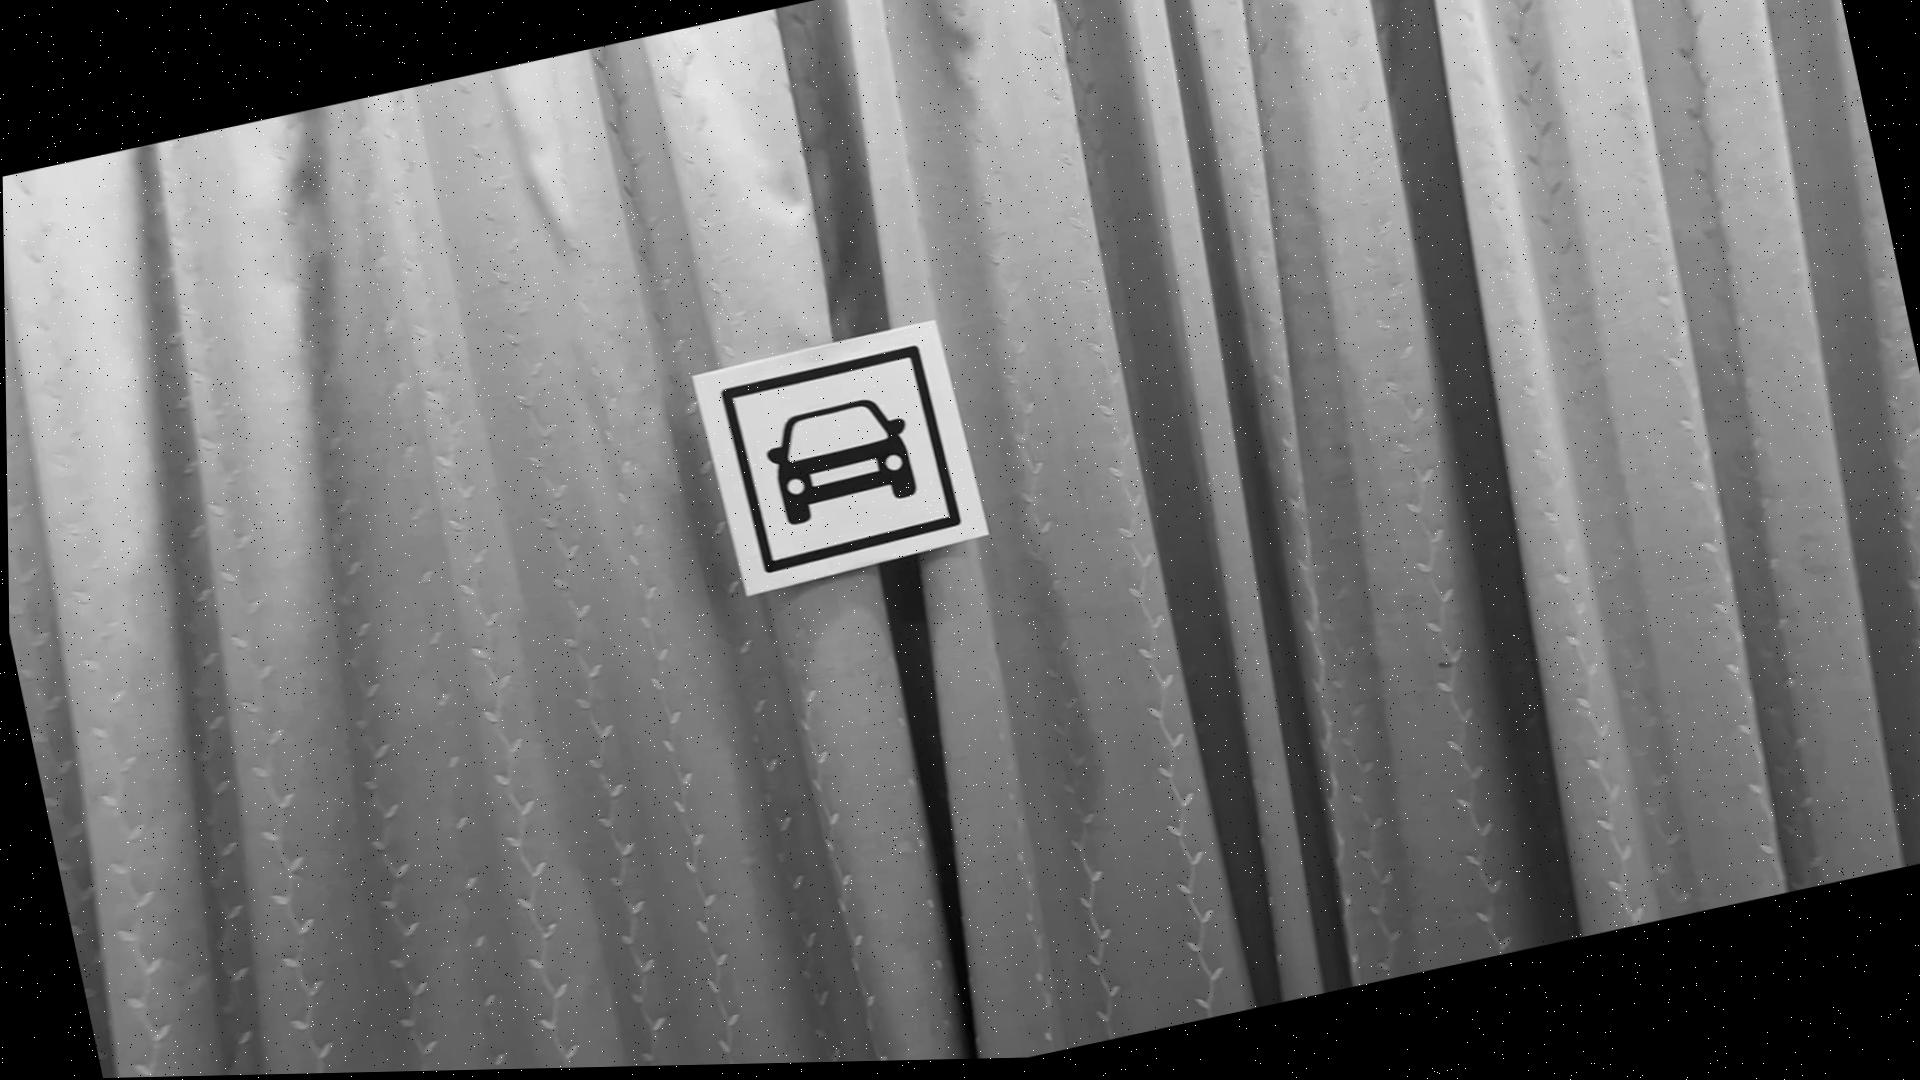car_img: (716, 345, 964, 582)
